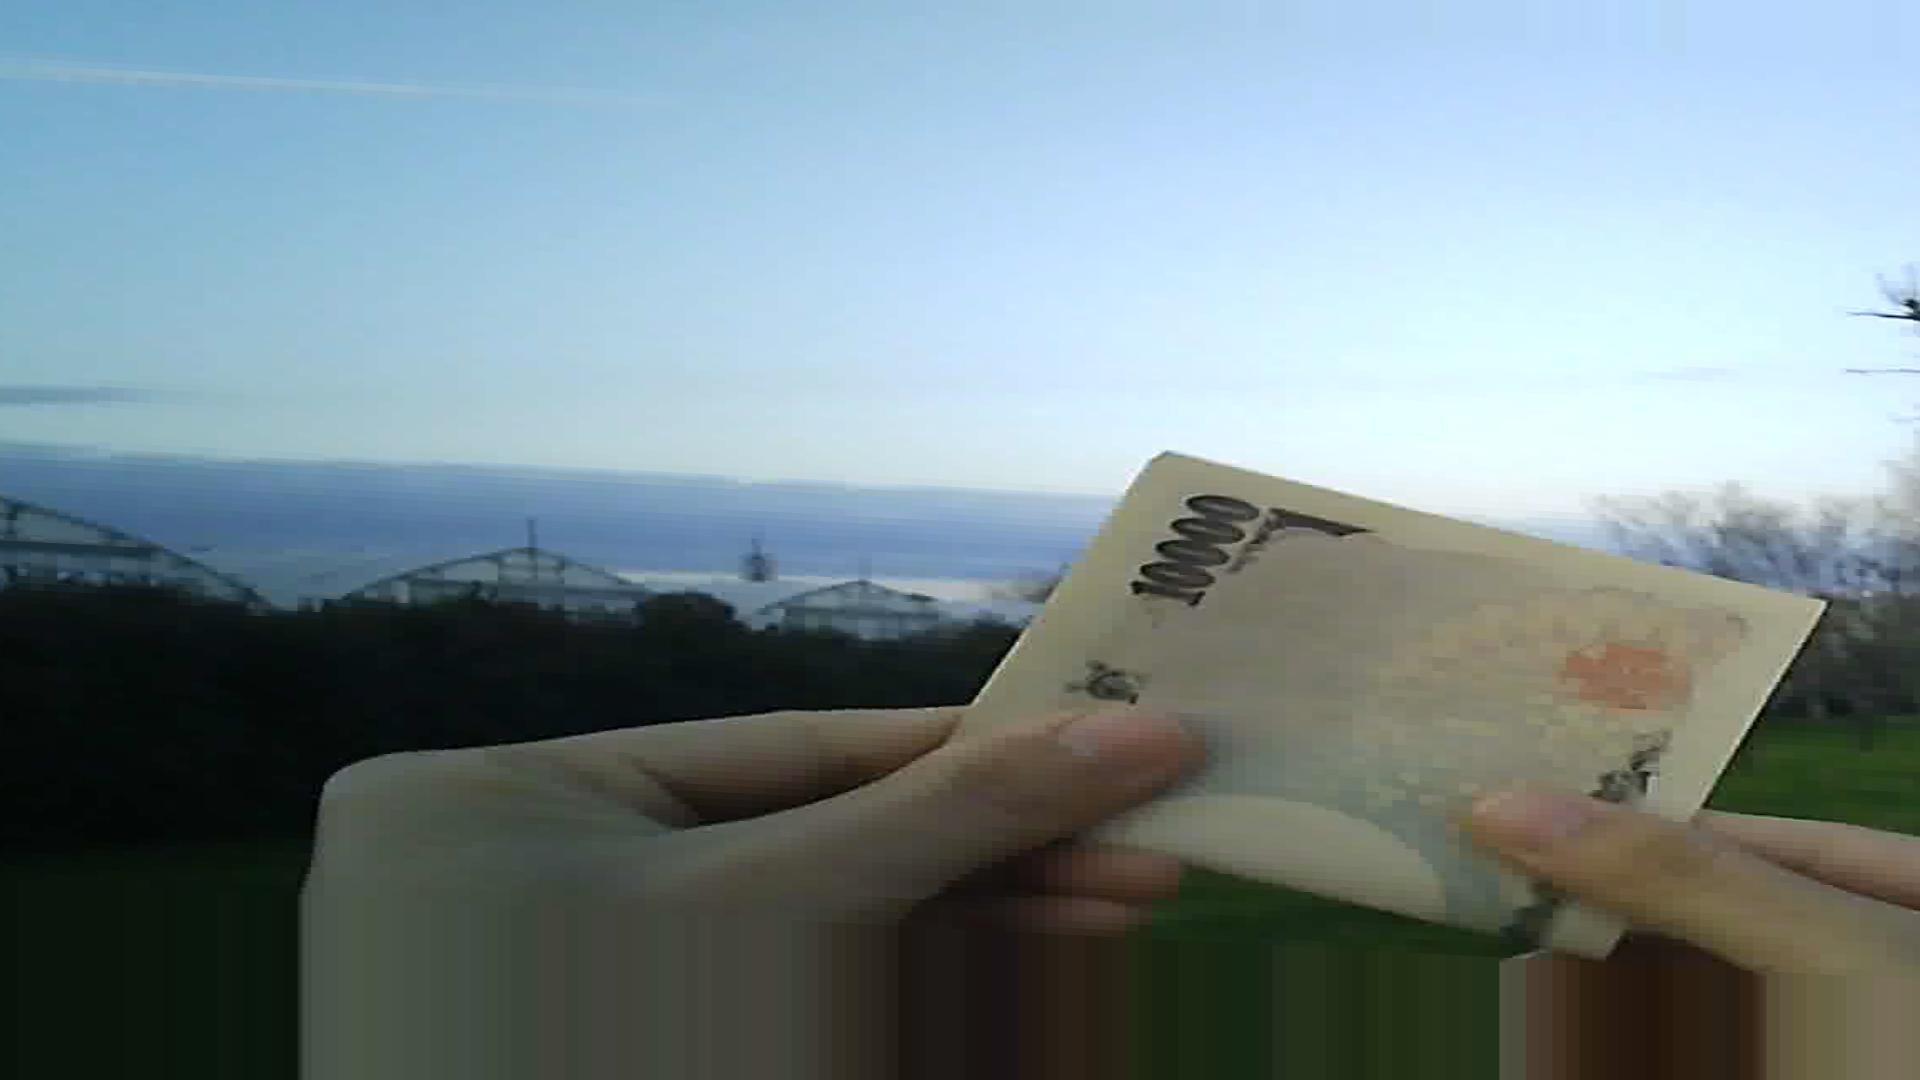10,000 Yen: (878, 448, 1774, 996)
